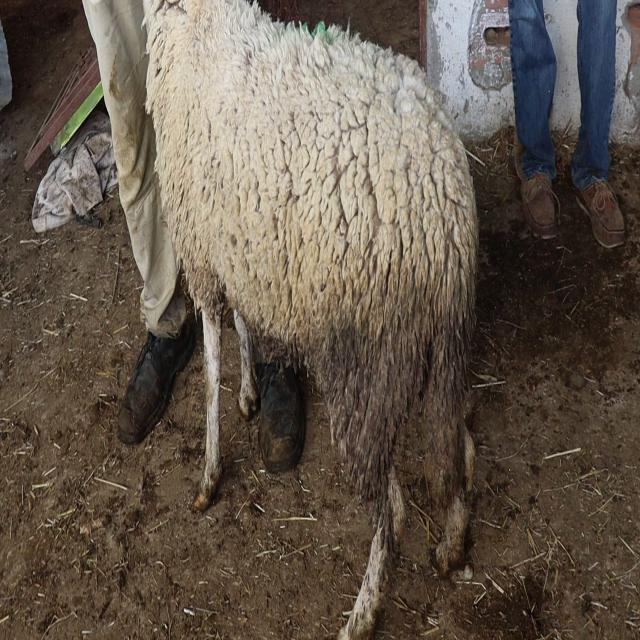Score_3: (143, 0, 478, 639)
